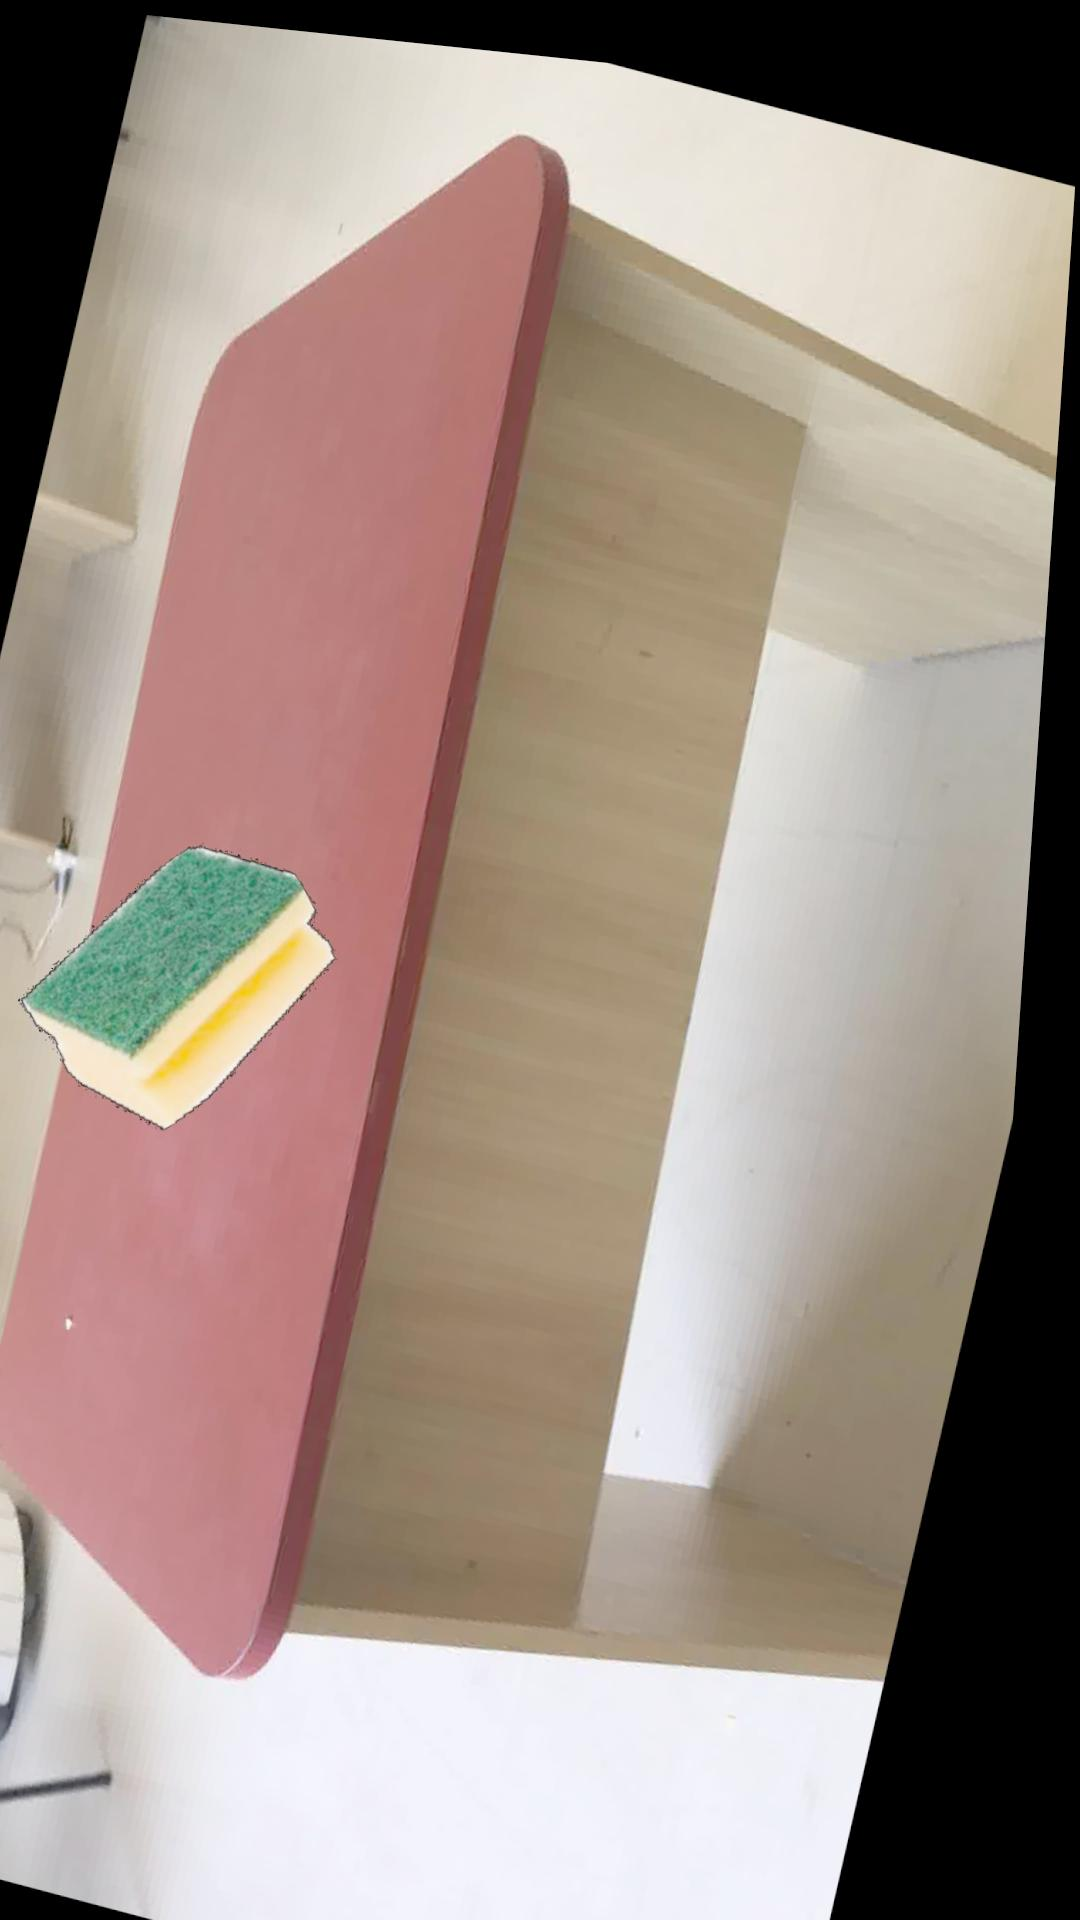sponge: (36, 840, 348, 1125)
